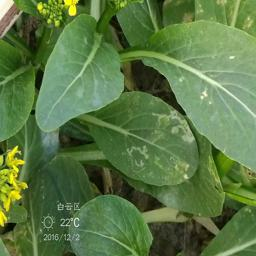liriomyza: (152, 108, 195, 144), (124, 144, 149, 167), (171, 156, 191, 180)
